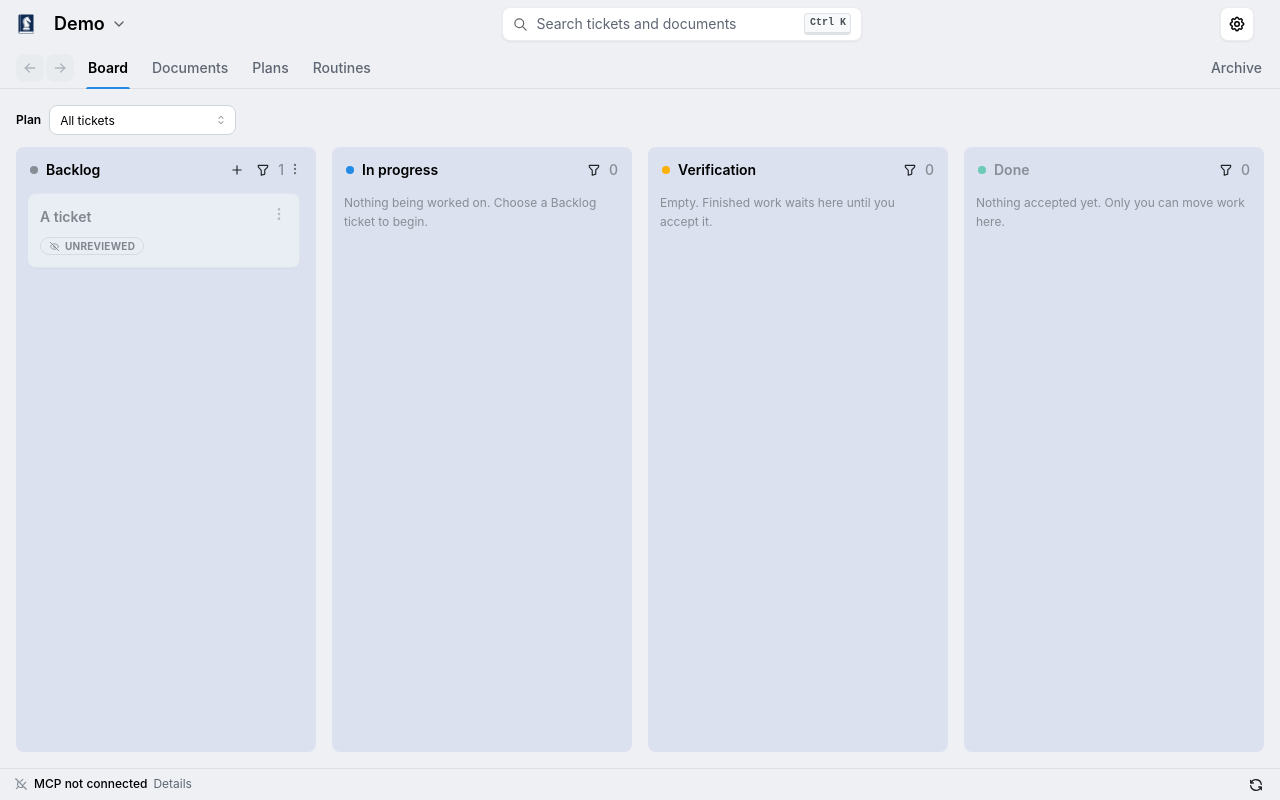
Scenario: opening a ticket's file externally › sits with the ticket details, not among the review and acceptance actions
This screenshot has width=1280, height=800.
Click the text "A ticket". click: click(66, 216)
box: [40,208,91,225]
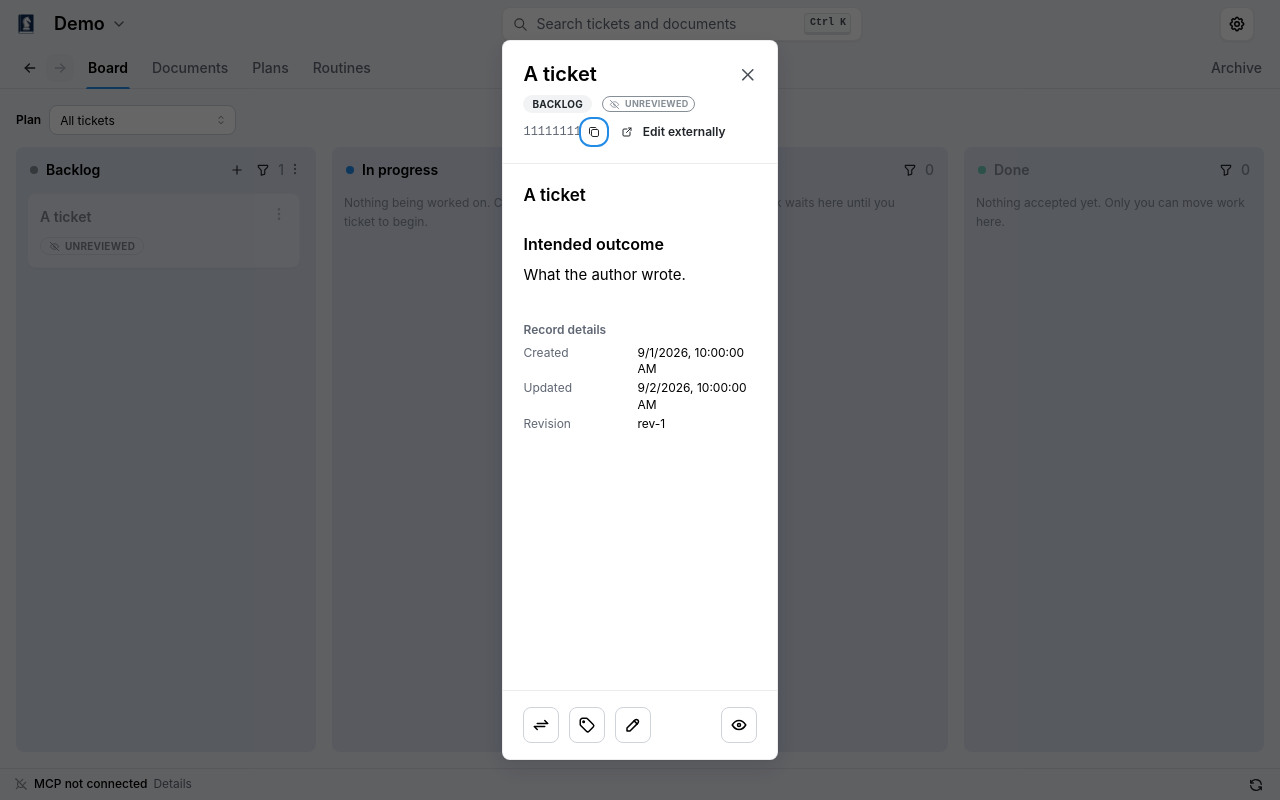
Expected: the header "A ticket Backlog Unreviewed 11111111 Edit externally" is shown, [504,41,777,164]
